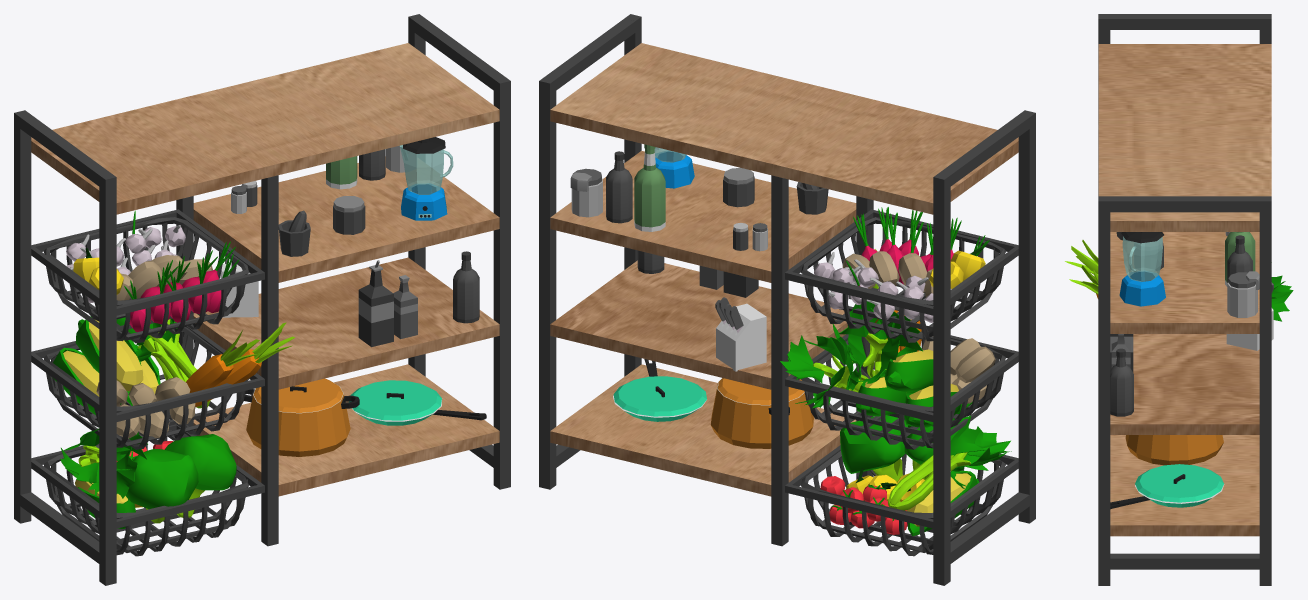
File: Shelf_3.fbx
3 renders of one model, left to right at view 1: azimuth 30°, elevation 25°; view 2: azimuth 150°, elevation 25°; view 3: azimuth 270°, elevation 25°, orthographic. The views are drawn at different scales.
Visible parts, largest first — view 1: Shelve_3; view 2: Shelve_3; view 3: Shelve_3.
Part boxes in pixels (<box>): Shelve_3: <box>14,14,510,585</box>; Shelve_3: <box>539,14,1035,585</box>; Shelve_3: <box>1065,14,1293,585</box>.
Size of the model in its own units: 566 by 534 by 289.
Materials: 27 (1 with a texture image).
